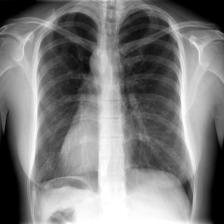normal: (26, 6, 196, 223)
